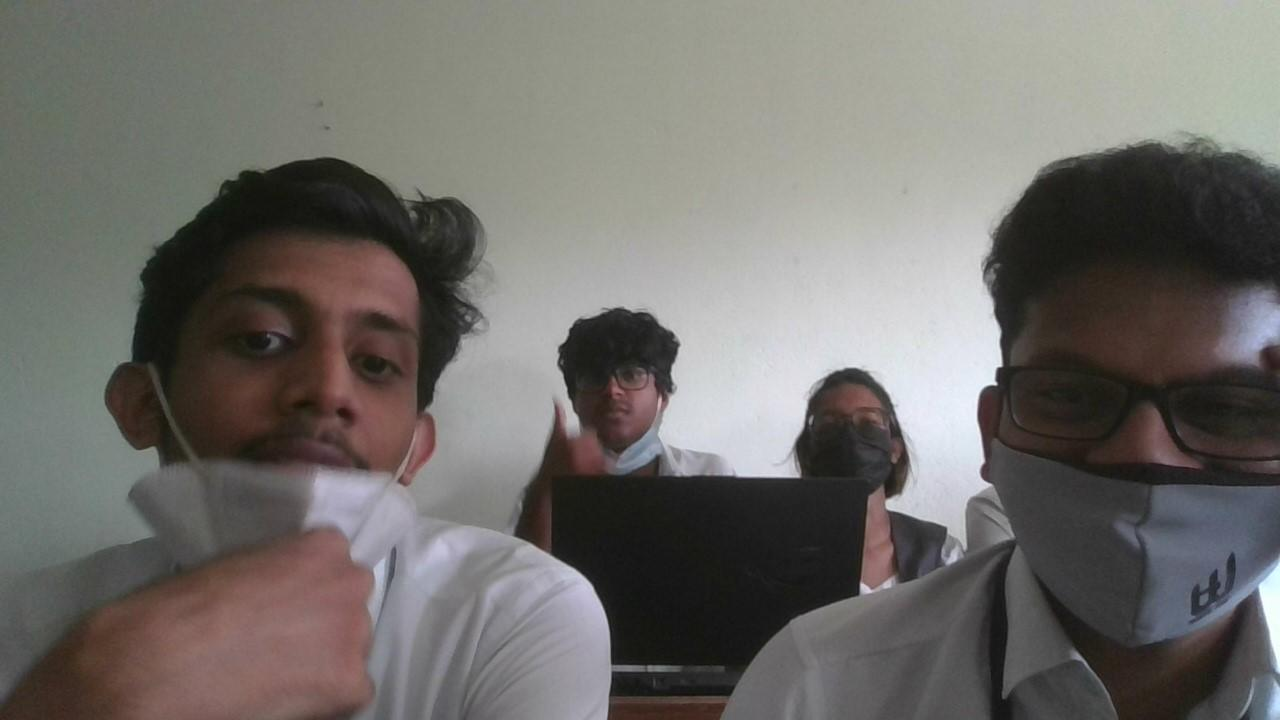nohelmet: (980, 144, 1280, 645), (108, 158, 438, 593), (558, 307, 677, 455), (797, 369, 908, 503)
